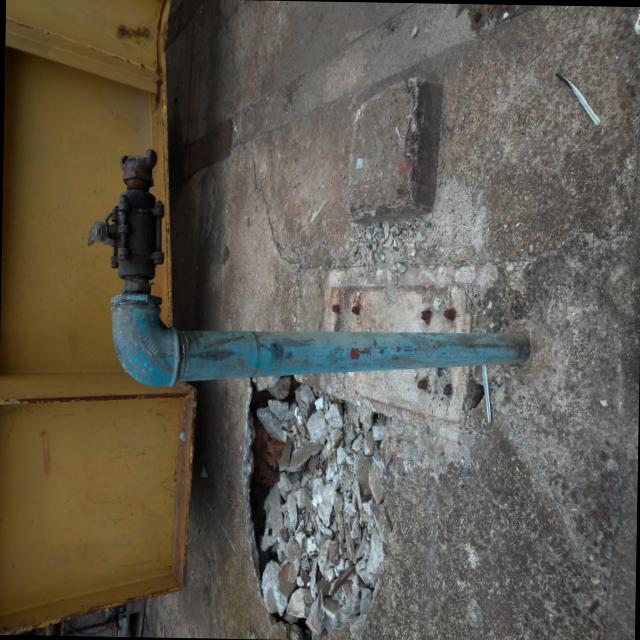gas: (112, 296, 525, 379)
